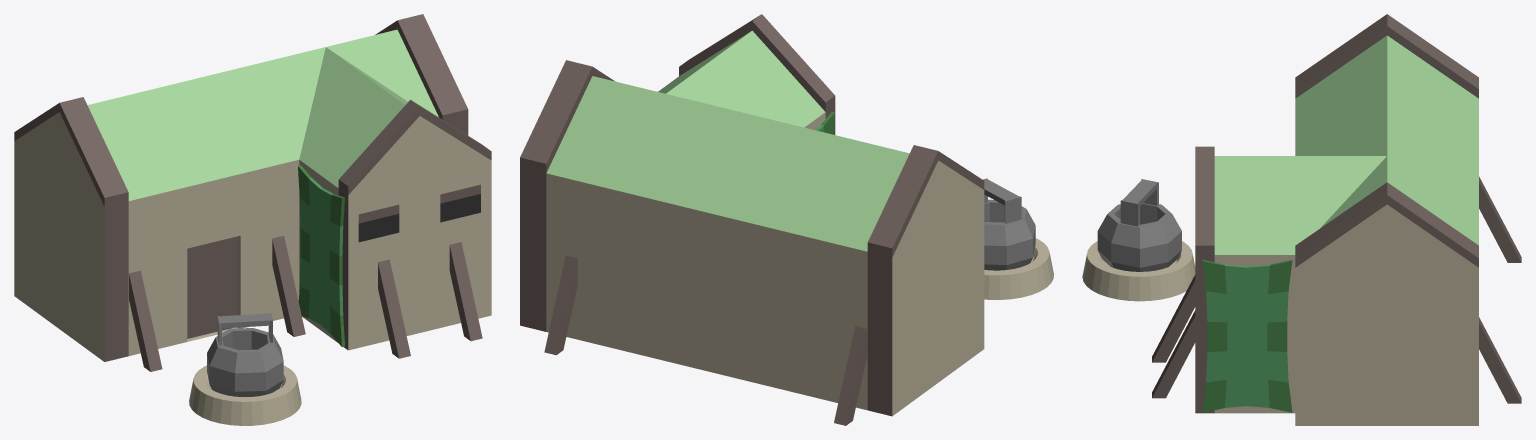
File: House TI.fbx
The picture shows the model from 3 angles, left to right: view 1: azimuth 30°, elevation 25°; view 2: azimuth 150°, elevation 25°; view 3: azimuth 270°, elevation 25°; orthographic projection. The views are drawn at different scales.
Parts seen in each view (by area): view 1: House TI; view 2: House TI; view 3: House TI.
Boxes of the visible parts, box(x1,y1,x2,y2) form: House TI: box(14, 14, 491, 425); House TI: box(520, 14, 1053, 425); House TI: box(1082, 14, 1521, 425).
Size of the model in its own units: 1469 by 874 by 1506.
